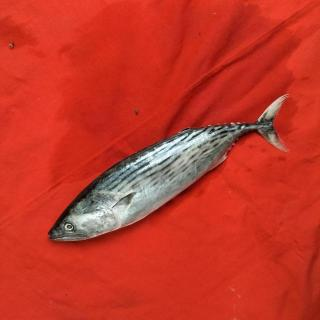Ikan: (46, 89, 300, 251)
